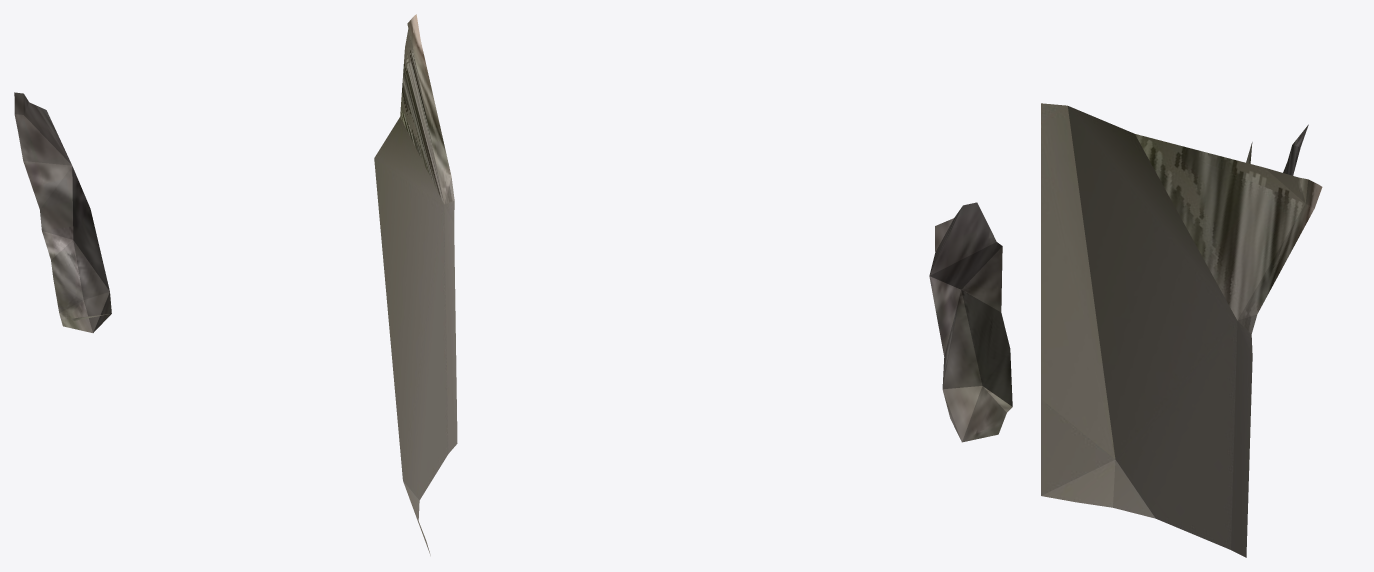
The picture shows the model from 3 angles, left to right: view 1: azimuth 30°, elevation 25°; view 2: azimuth 150°, elevation 25°; view 3: azimuth 270°, elevation 25°; orthographic projection. The views are drawn at different scales.
Bounding box in the file's own units: 2.95 × 2.95 × 2.3.
Materials: 3 (3 with a texture image).
